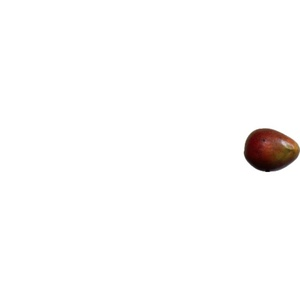manga: (244, 129, 300, 172)
